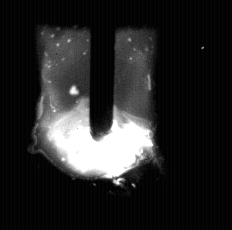arame: (90, 0, 115, 141)
poca: (48, 0, 152, 230)
